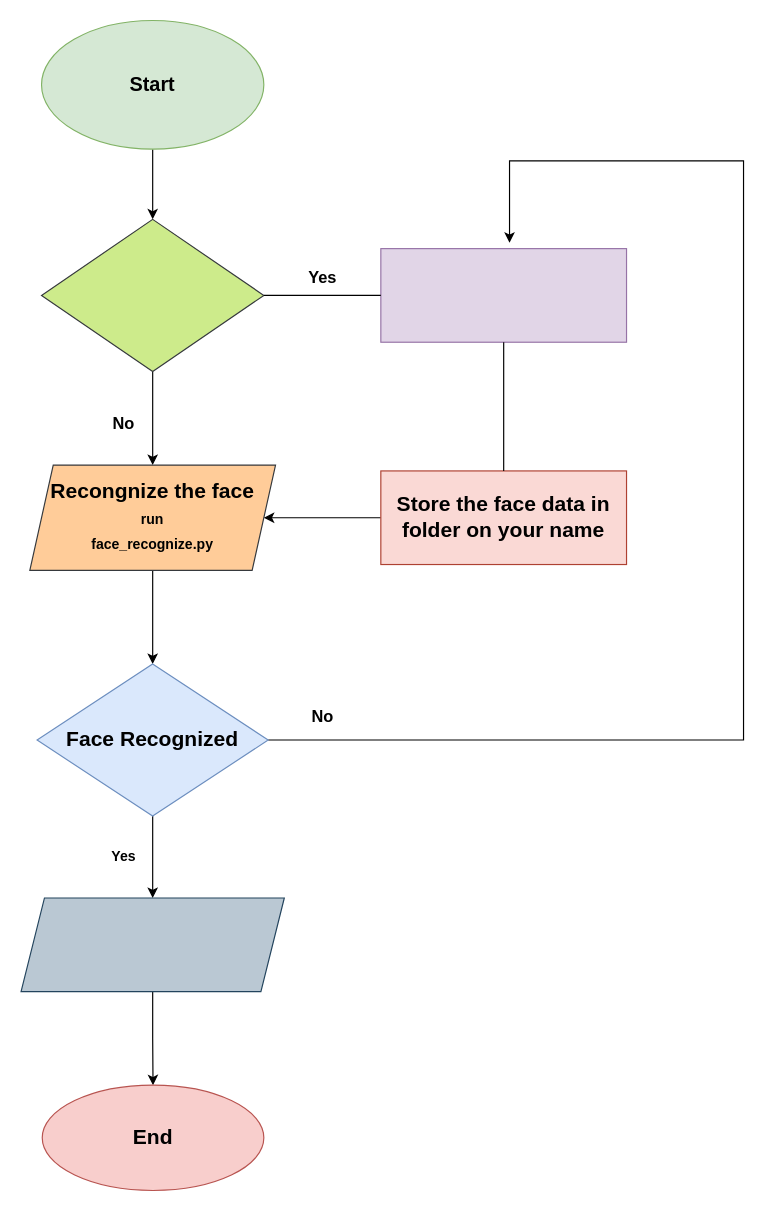
The diagram is 773 pixels wide and 1211 high, and some of its shapes have lost their labels. The centre of each missing label's shape, as x and y in pixels:
Give your paragraph: (503,294)
New User? run create_dataset.py: (152,294)
Stored in csv file with Registration Number & Date Time of Entry: (152,944)
